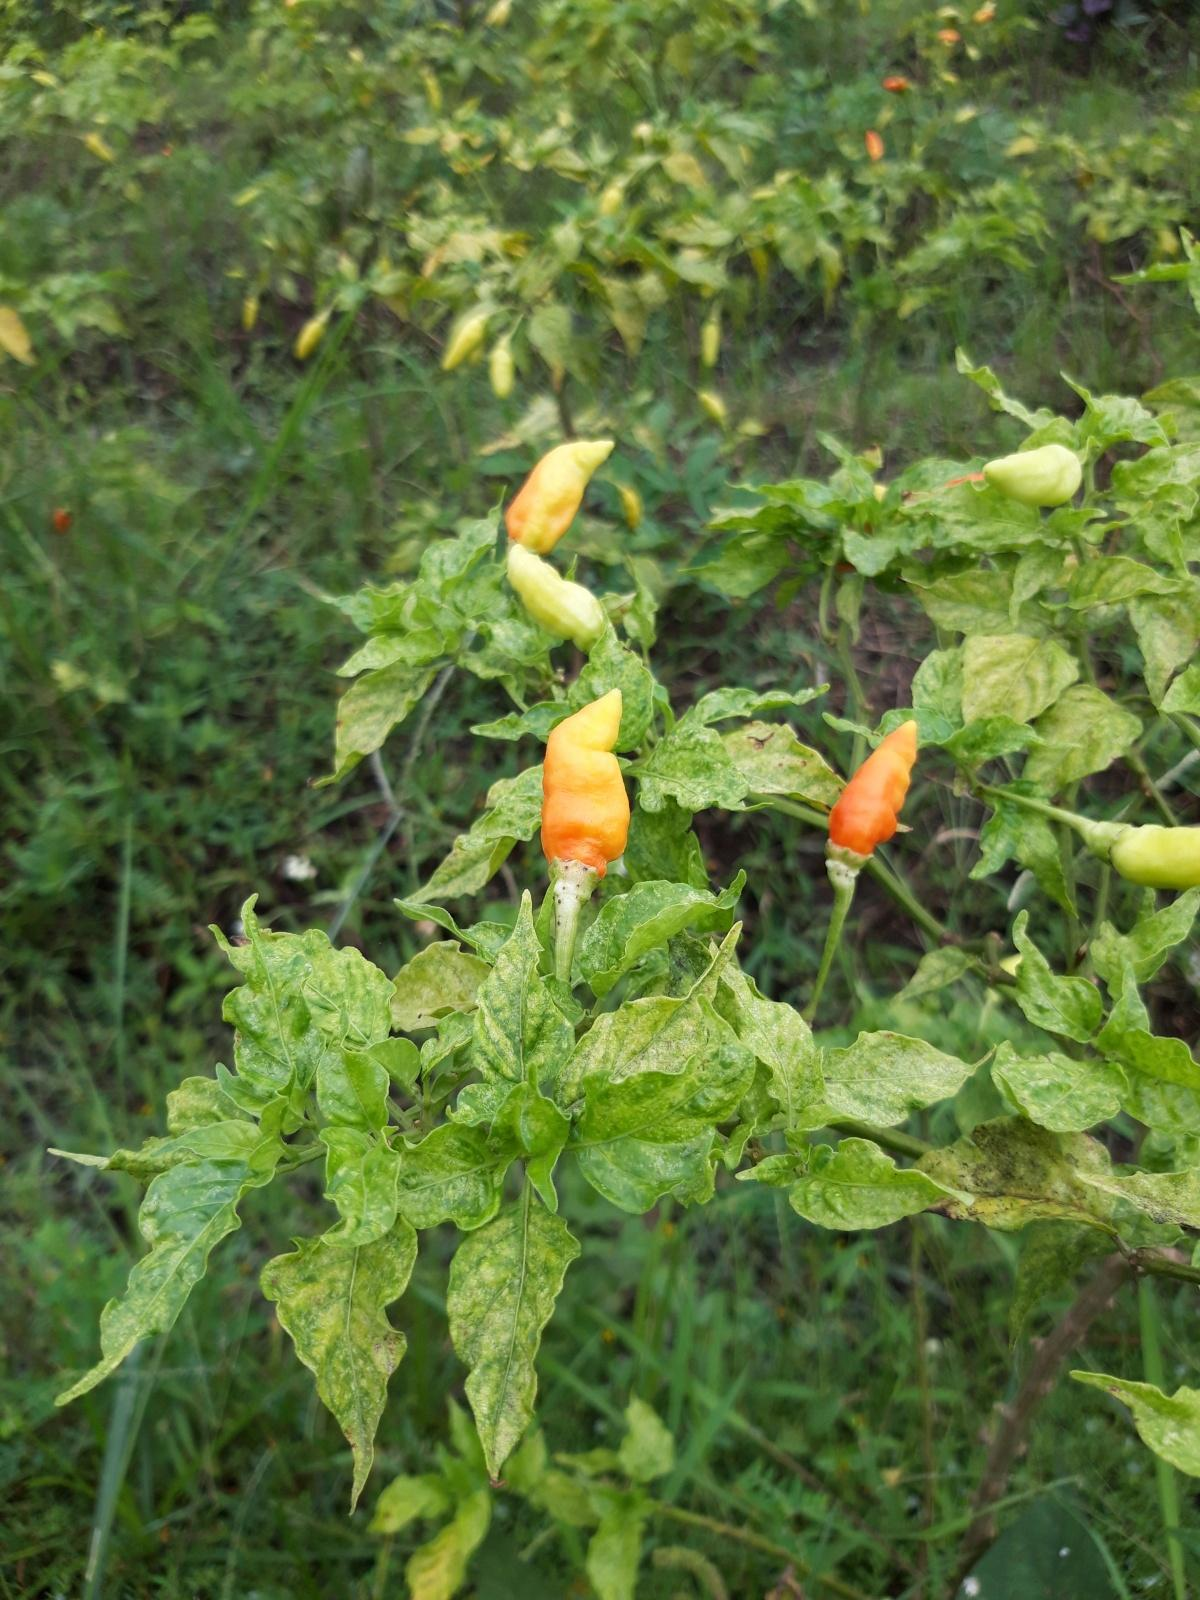cabai_normal: (542, 687, 635, 874), (504, 440, 615, 554), (827, 721, 916, 855), (505, 543, 605, 650), (1107, 816, 1200, 884), (983, 445, 1082, 506)
